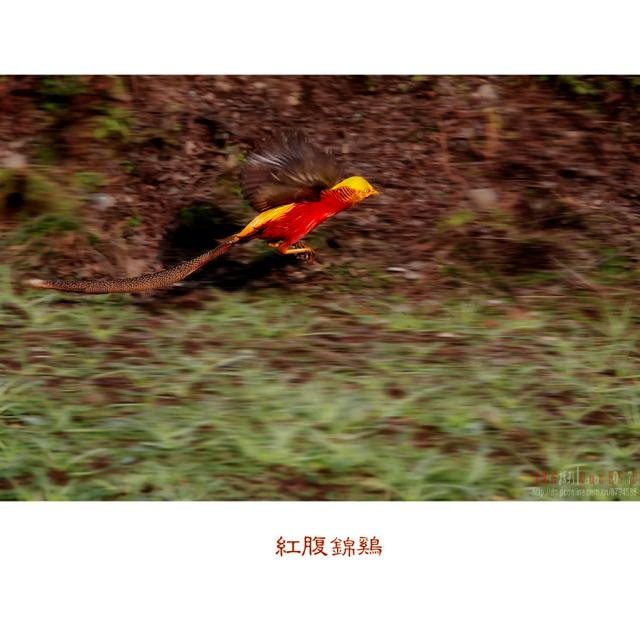Chrysolophus pictus feather: (30, 235, 242, 294)
